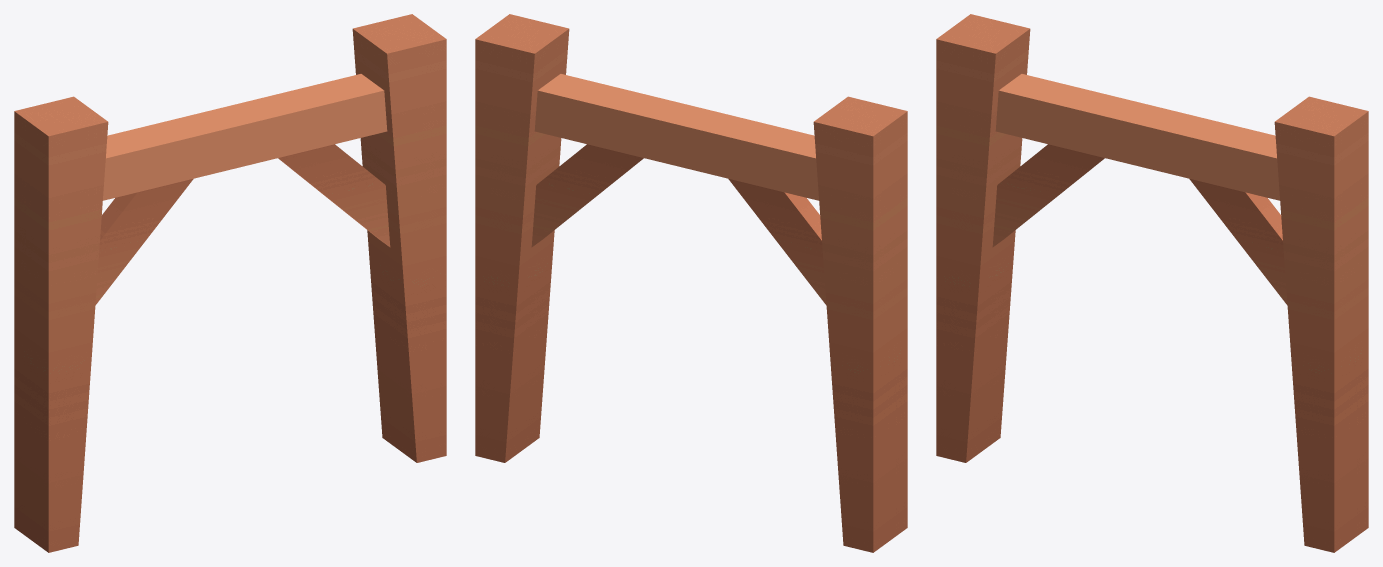
File: wood-support.glb
3 renders of one model, left to right at view 1: azimuth 30°, elevation 25°; view 2: azimuth 150°, elevation 25°; view 3: azimuth 330°, elevation 25°, orthographic.
Visible parts, largest first — view 1: wood-support; view 2: wood-support; view 3: wood-support.
Boxes of the visible parts, x1,y1,x2,y2 form: wood-support: (14,14,446,552); wood-support: (475,14,907,552); wood-support: (936,14,1368,552).
Bounding box in the file's own units: 1 × 1 × 0.15.
Materials: 1 (1 with a texture image).
